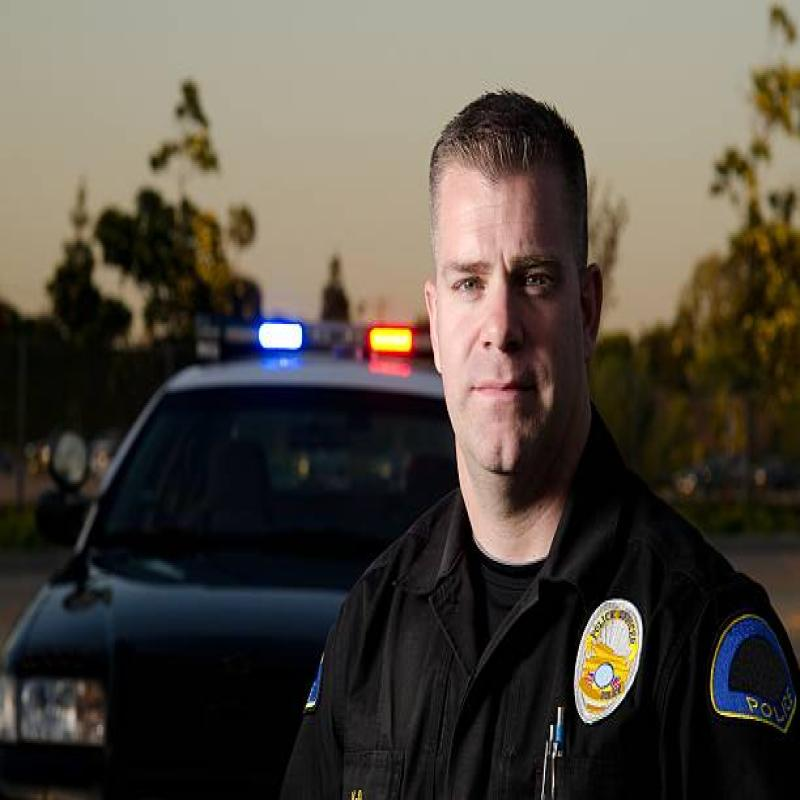AmbulanceSiren: (238, 309, 436, 376)
